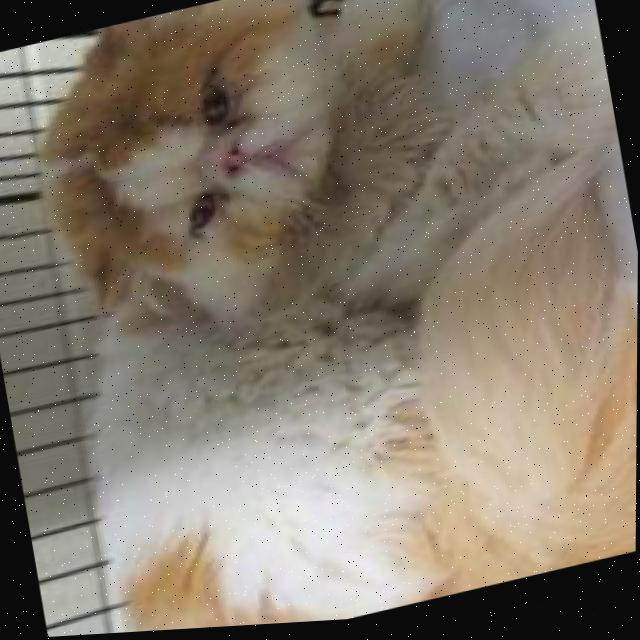Persian: (2, 0, 640, 640)
